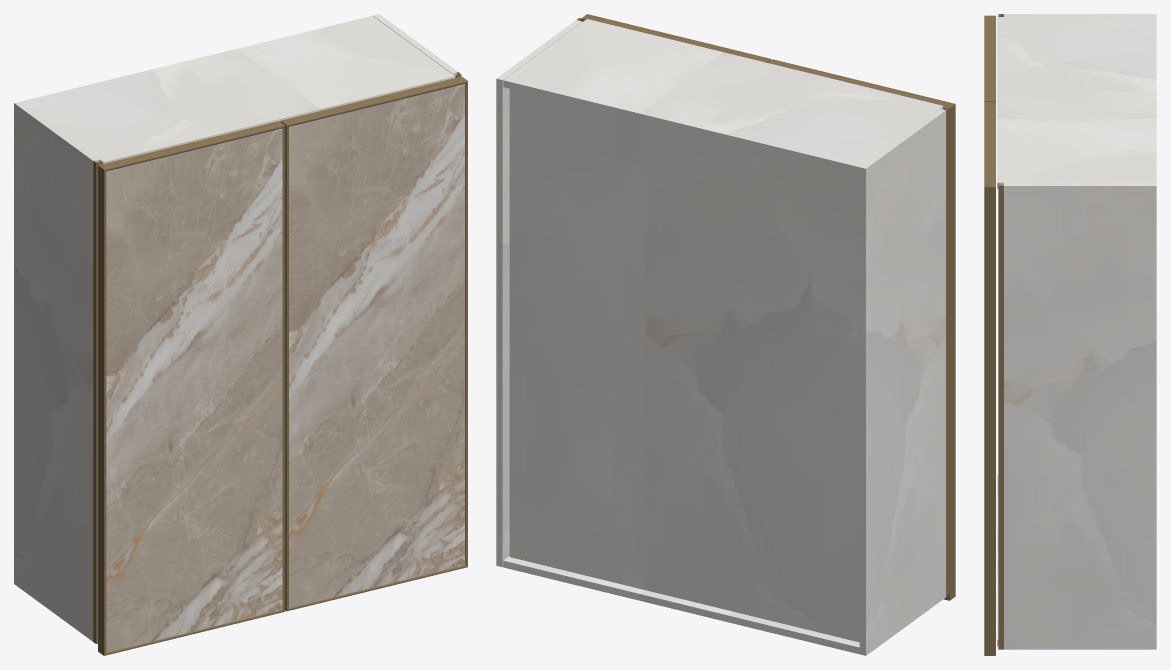
Rendered from WC-SH-NHX-ST-3SG-2HS-XXX-850-1085-336-15.glb.
3 views of the same model, side by side, from view 1: azimuth 30°, elevation 25°; view 2: azimuth 150°, elevation 25°; view 3: azimuth 270°, elevation 25° (orthographic). The views are drawn at different scales.
Visible parts, largest first — view 1: Object_node_10, Object_node_12, TP_node_0, TP, Extrusion_node_1, Object_node_14, Extrusion_node_5, Extrusion_node, Extrusion_node_2, Extrusion, Extrusion_node_3; view 2: TP_node_2, TP_node_0, TP, TP_node_1, TP_node, Extrusion_node_1, Object_node_14, Extrusion_node_2, Extrusion; view 3: TP_node_1, TP, Extrusion_node_3, Object_node_20, Extrusion, Extrusion_node_2, TP_node_0, TP_node.
Boxes of the visible parts, x1,y1,x2,y2 form: Object_node_10: [106, 128, 282, 652]; Object_node_12: [289, 84, 464, 607]; TP_node_0: [14, 101, 99, 641]; TP: [21, 15, 455, 164]; Extrusion_node_1: [98, 165, 106, 655]; Object_node_14: [93, 160, 101, 643]; Extrusion_node_5: [280, 121, 288, 611]; Extrusion_node: [282, 126, 285, 611]; Extrusion_node_2: [281, 76, 467, 126]; Extrusion: [98, 121, 284, 171]; Extrusion_node_3: [465, 81, 467, 566]; TP_node_2: [509, 89, 859, 642]; TP_node_0: [859, 108, 945, 655]; TP: [503, 19, 943, 173]; TP_node_1: [496, 20, 582, 567]; TP_node: [503, 556, 859, 654]; Extrusion_node_1: [947, 104, 955, 600]; Object_node_14: [943, 107, 949, 596]; Extrusion_node_2: [582, 14, 770, 62]; Extrusion: [767, 59, 954, 108]; TP_node_1: [1004, 182, 1156, 649]; TP: [997, 17, 1156, 188]; Extrusion_node_3: [984, 187, 995, 655]; Object_node_20: [998, 183, 1003, 649]; Extrusion: [984, 15, 995, 100]; Extrusion_node_2: [984, 101, 995, 186]; TP_node_0: [1004, 14, 1156, 16]; TP_node: [997, 474, 998, 646].
Size of what is drawn, in the model's own units: 0.85 by 1.09 by 0.3602.
Materials: 6 (2 with a texture image).
